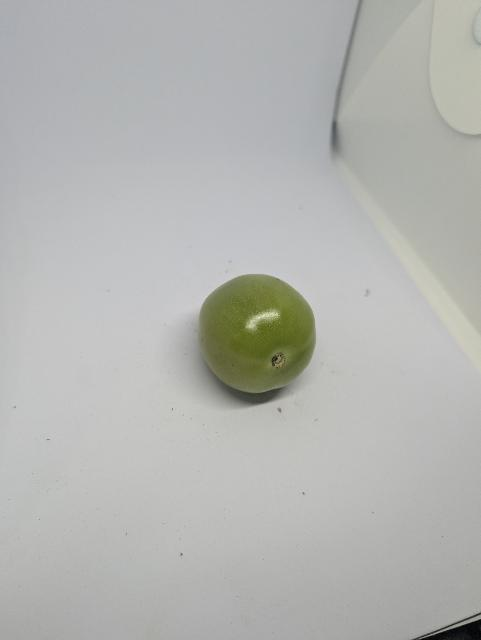green: (189, 253, 326, 415)
